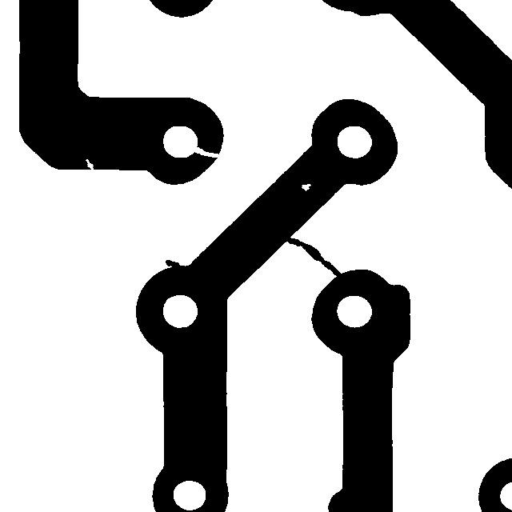mousebite: (78, 151, 102, 181)
open: (183, 139, 226, 165)
pin-hole: (294, 176, 318, 198)
short: (279, 230, 350, 287)
spur: (158, 252, 188, 275)
